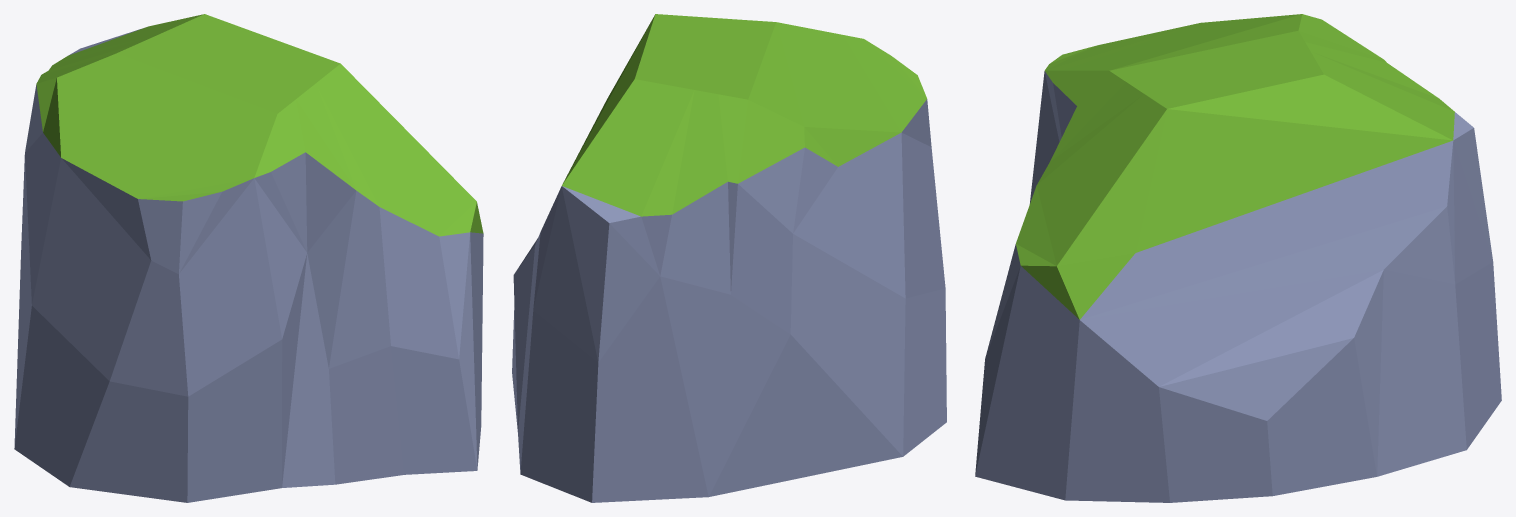
File: Rock_35.fbx
3 views of the same model, side by side, from view 1: azimuth 30°, elevation 25°; view 2: azimuth 150°, elevation 25°; view 3: azimuth 270°, elevation 25° (orthographic).
Visible parts, largest first — view 1: Rock_35; view 2: Rock_35; view 3: Rock_35.
Boxes of the visible parts, x1,y1,x2,y2 form: Rock_35: (14, 14, 483, 502); Rock_35: (512, 14, 946, 502); Rock_35: (975, 14, 1501, 502).
Bounding box in the file's own units: 6.3 × 5.49 × 7.32.
